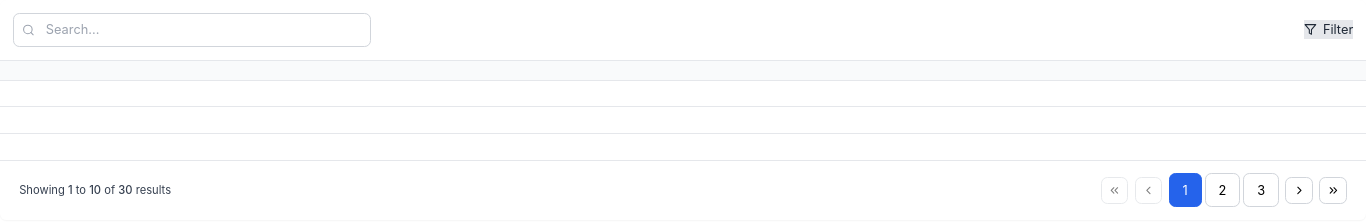
Scenario: DataTable Component › shows filter menu when filter button clicked
Step 1. Click the button "Filter" → (1328, 30), box top-left (1304, 20), bottom-right (1353, 39)
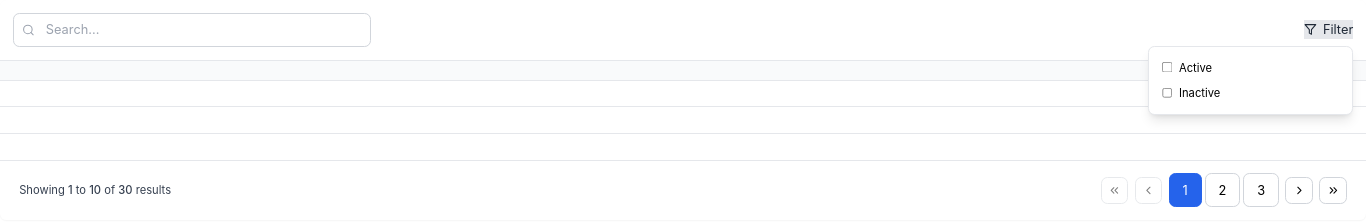
expect the text "Active" is shown: met, box top-left (1179, 60), bottom-right (1212, 76)
expect the text "Inactive" is shown: met, box top-left (1179, 85), bottom-right (1220, 101)
